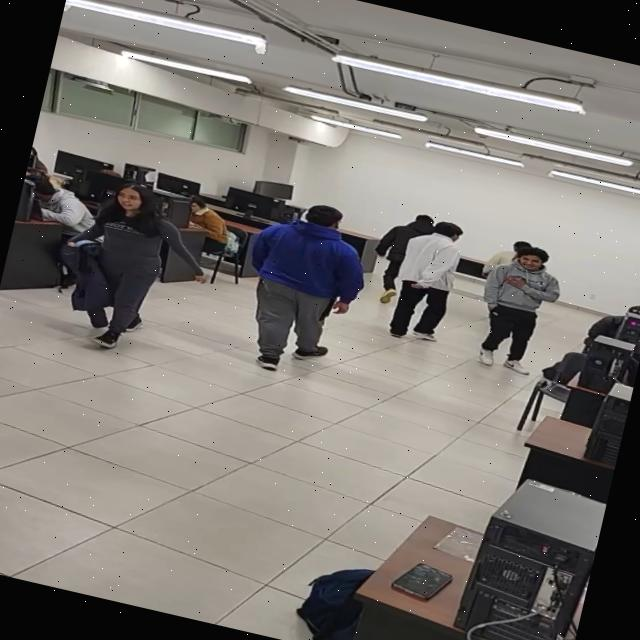Persona: (232, 191, 372, 384), (54, 176, 200, 353), (464, 238, 570, 380), (378, 212, 467, 346), (372, 197, 434, 272)
